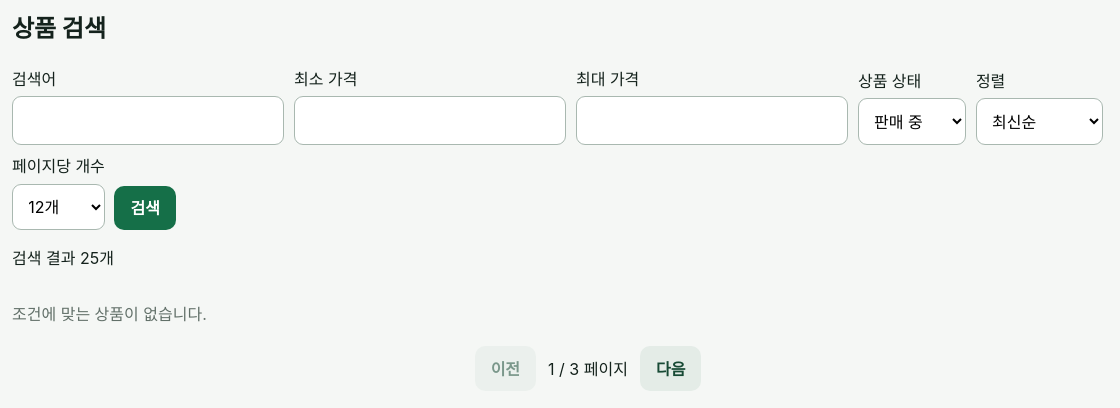
it: 출력 인코딩 › 상품 상태 필터와 페이지 이동을 query에 반영한다
The image size is (1120, 408).
Expected: the text "1 / 3 페이지" is shown, x1=548 y1=357 x2=628 y2=381
Select "판매 완료" in the dropdown labelled "상품 상태": (912, 122) x1=858 y1=98 x2=966 y2=145
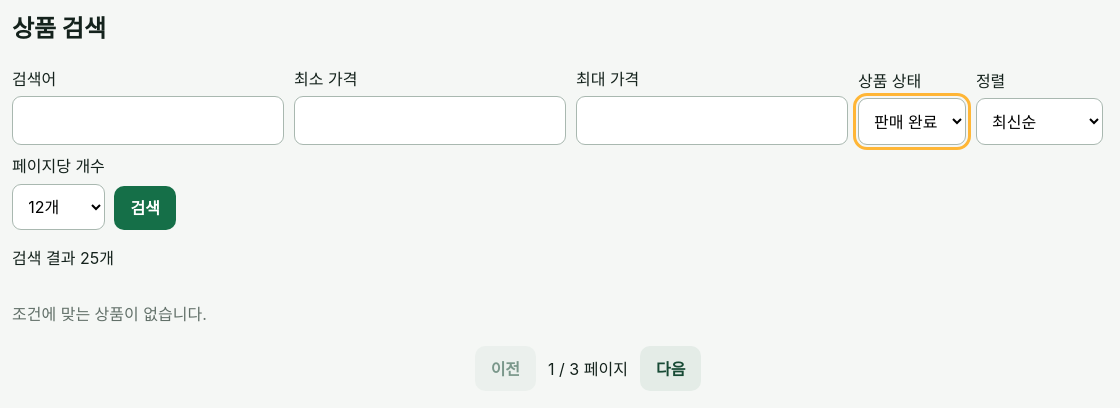
Click the button "검색": (145, 208) x1=114 y1=186 x2=176 y2=230
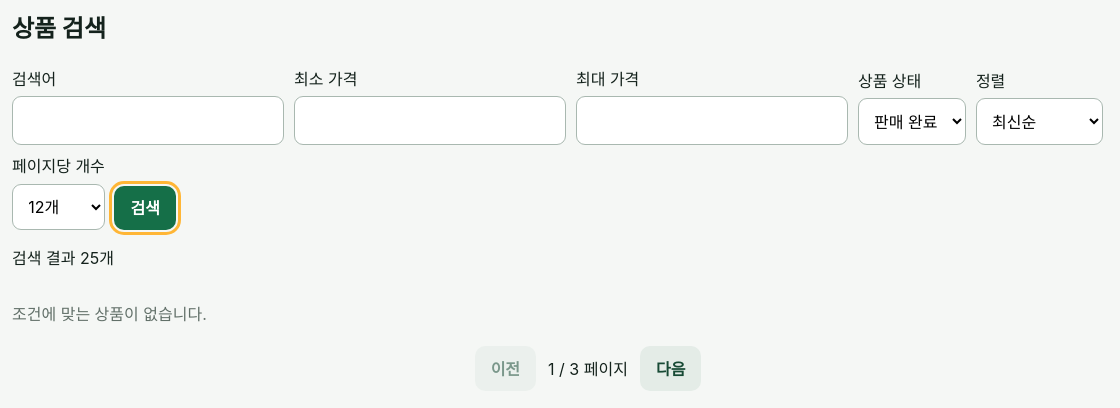
Click the button "다음": (671, 369) x1=640 y1=346 x2=701 y2=391
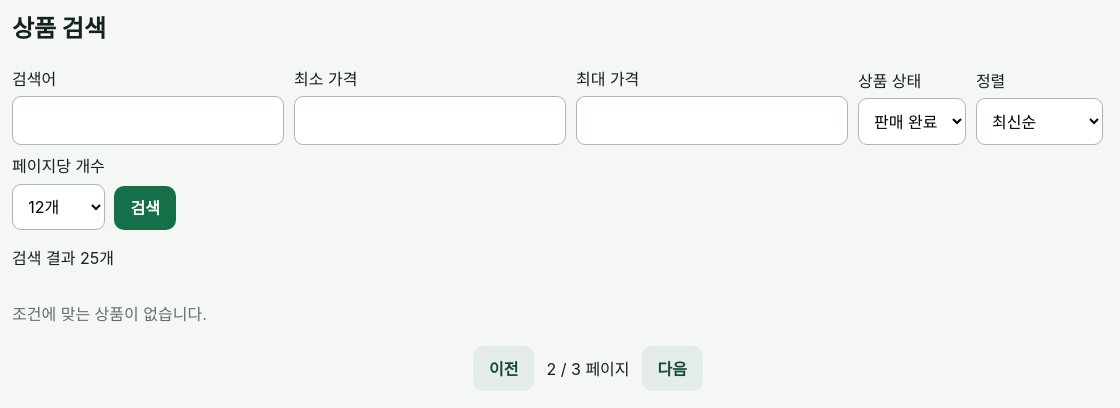
Now the text "2 / 3 페이지" is shown, box x1=546 y1=357 x2=630 y2=381
